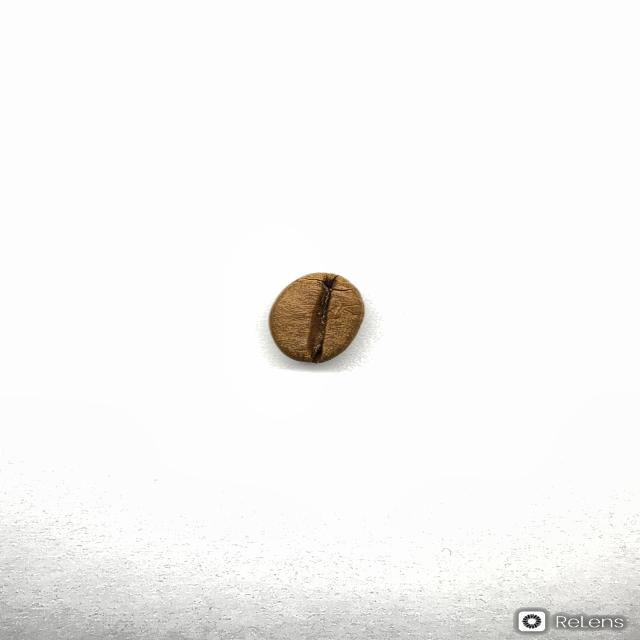Good bean: (267, 271, 365, 364)
